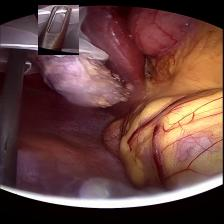Grasper: (38, 4, 79, 54)
Specimen Bag: (0, 1, 112, 77)
